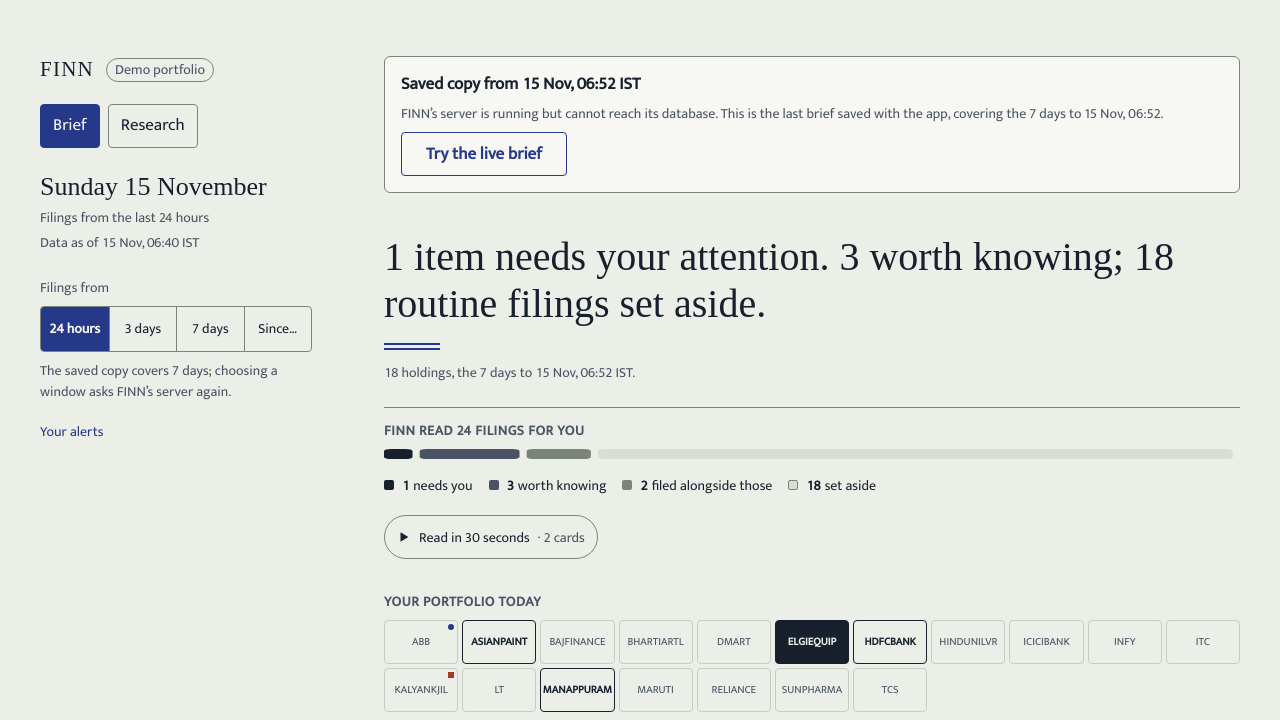
Test: when the live brief cannot be had › goes back to the live brief from the saved copy
Step 1. Click the button "Try the live brief" → (484, 154), box [401,132,567,176]
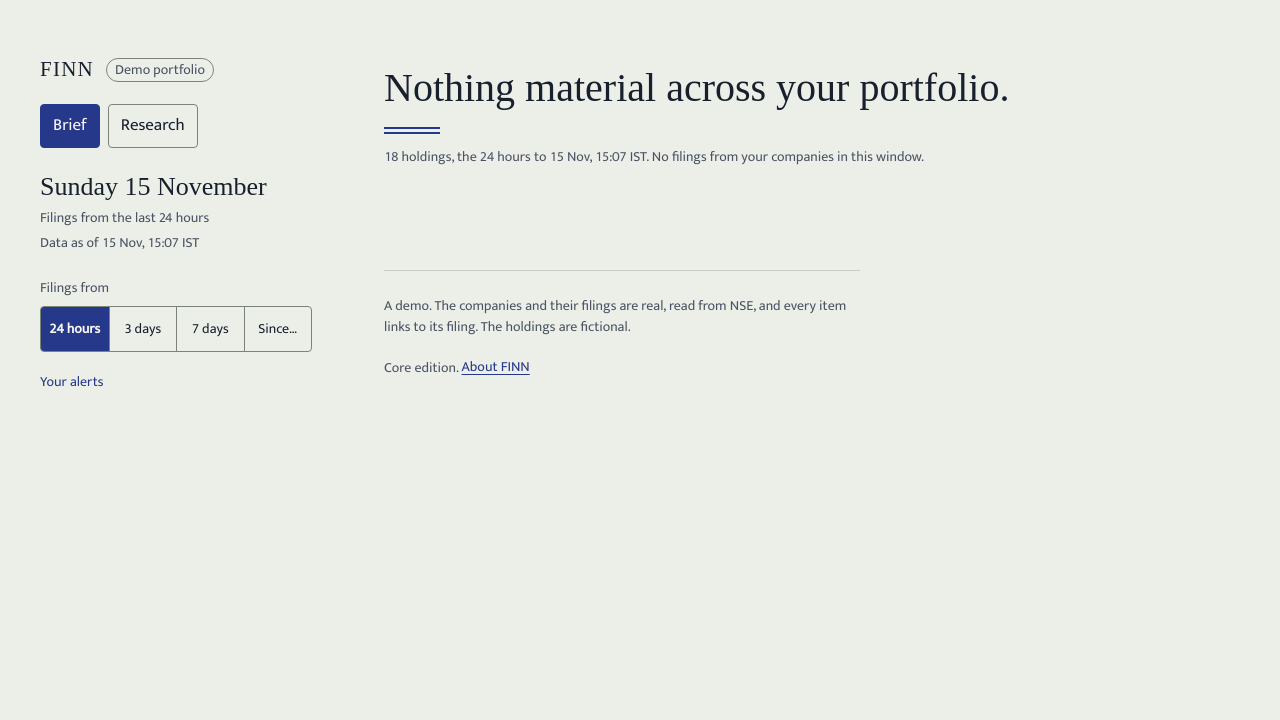
Result: the text "Nothing material across your portfolio." is shown at [384,65,1009,110]
Result: the text "saved copy" is gone
